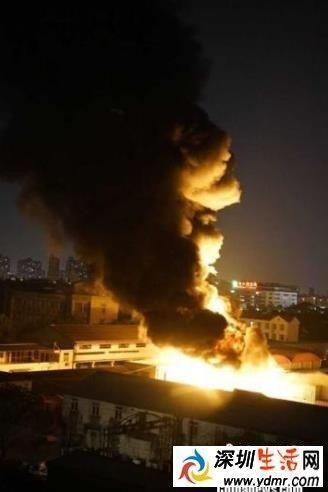fire: (149, 351, 309, 397)
